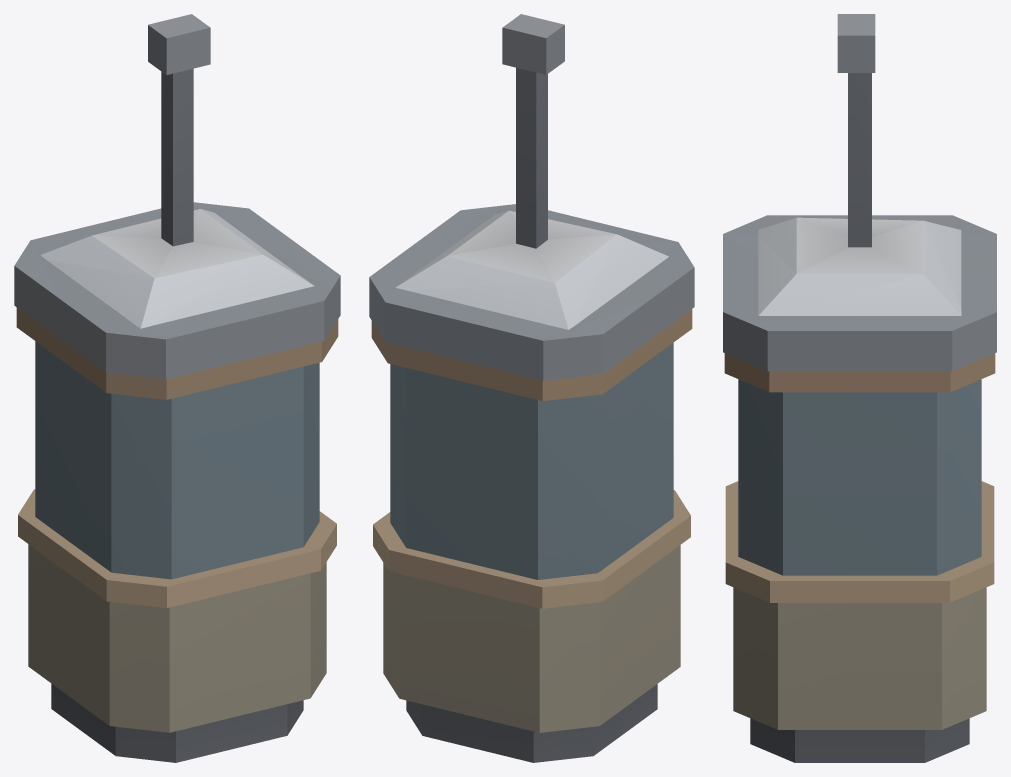
The model's file is gondola.lod2.glb.
3 renders of one model, left to right at view 1: azimuth 30°, elevation 25°; view 2: azimuth 150°, elevation 25°; view 3: azimuth 270°, elevation 25°, orthographic.
Bounding box in the file's own units: 1.6 × 4.46 × 1.6.
